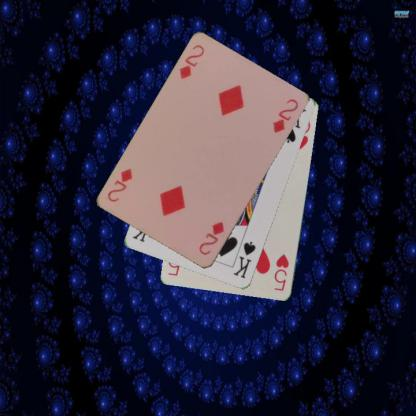2d: (176, 42, 206, 82), (196, 219, 226, 257)
5h: (272, 252, 290, 292)
Ks: (231, 239, 257, 280)
